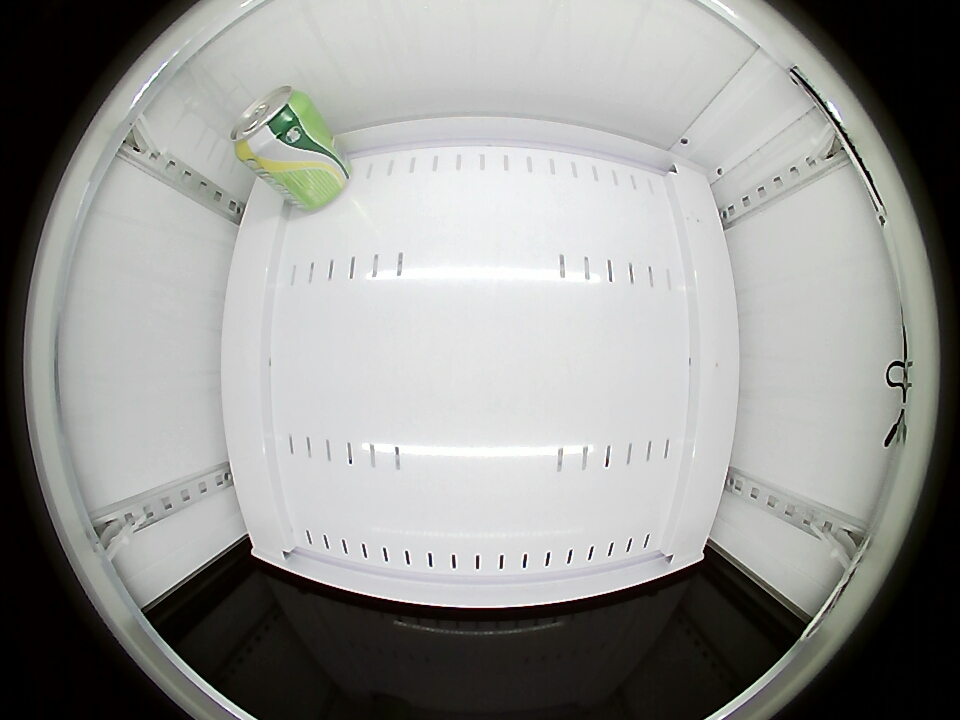quchenshixiangcao: (230, 87, 309, 164)
